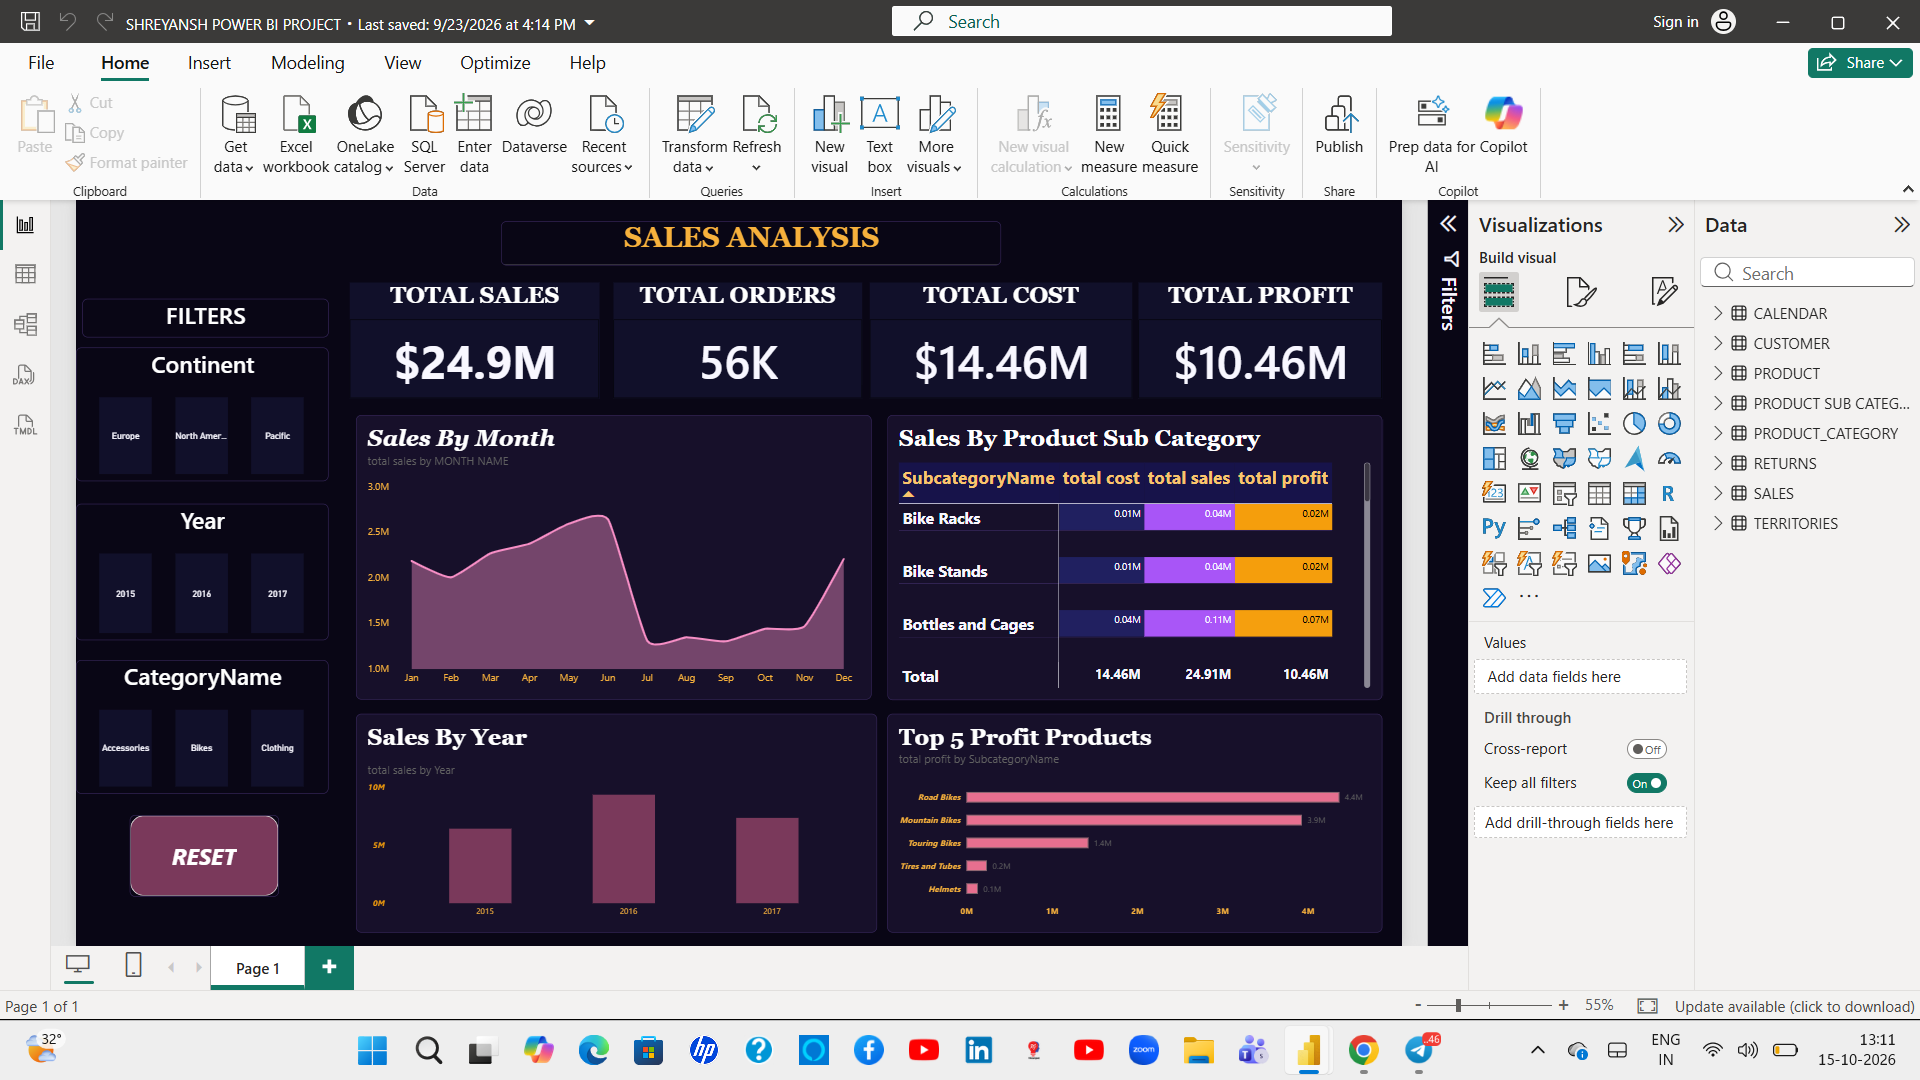

This screenshot's page, from the dashboard's own definition file:
{"tool":"powerbi","page":{"name":"Page 1","canvas":[1920,1080],"ordinal":0},"visuals":[{"type":"cardVisual","title":"TOTAL ORDERS","fields":{"Data":["SALES.total orders"]},"box":[778.2,119.4,360.1,168.3],"z":0},{"type":"cardVisual","title":"TOTAL SALES","fields":{"Data":["SALES.total sales"]},"box":[396.3,119.4,361.9,168.3],"z":1},{"type":"cardVisual","title":"TOTAL PROFIT","fields":{"Data":["SALES.total profit"]},"box":[1538.2,119.4,352.9,168.3],"z":2},{"type":"cardVisual","title":"TOTAL COST","fields":{"Data":["PRODUCT.total cost"]},"box":[1149.1,119.4,380,168.3],"z":3},{"type":"advancedSlicerVisual","fields":{"Values":["CALENDAR.Year"]},"box":[0,439.7,365.6,197.3],"z":4},{"type":"advancedSlicerVisual","fields":{"Values":["TERRITORIES.Continent"]},"box":[0,213.5,365.6,193.6],"z":5},{"type":"lineChart","title":"Total sales","fields":{"Category":["CALENDAR.MONTH NAME"],"Y":["SALES.total sales"]},"box":[405.4,311.3,746,412],"z":6},{"type":"clusteredColumnChart","title":"Total sales By Year","fields":{"Category":["CALENDAR.Year"],"Y":["SALES.total sales"]},"box":[405.4,743.8,754.6,316.7],"z":7},{"type":"advancedSlicerVisual","fields":{"Values":["PRODUCT_CATEGORY.CategoryName"]},"box":[0,666,365.6,193.6],"z":8},{"type":"pivotTable","title":"Sales By Product Sub Category","fields":{"Rows":["PRODUCT SUB CATEGORY.SubcategoryName"],"Values":["PRODUCT.total cost","SALES.total sales","SALES.total profit"]},"box":[1174.5,311.3,716.6,412.6],"z":9},{"type":"clusteredBarChart","title":"TOP 5 PROFIT PRODUCTS","fields":{"Category":["PRODUCT SUB CATEGORY.SubcategoryName"],"Y":["SALES.total profit"]},"box":[1174.5,743.8,716.6,316.7],"z":10},{"type":"shape","title":"FILTERS","box":[9,143,356.5,56.1],"z":11},{"type":"actionButton","box":[77.8,890.4,216,118],"z":12},{"type":"shape","title":"SALES ANALYSIS","box":[653.3,34.4,724,64],"z":13}]}

Visuals, with their boxes on the page's 1920x1080 design canvas (x1, y1, x2, y2). These are canvas units, not pixel positions in the 1920x1080 screenshot, which may show the page scaled, cropped or inside an application window:
"TOTAL ORDERS" cardVisual: (left=778, top=119, right=1138, bottom=288)
"TOTAL SALES" cardVisual: (left=396, top=119, right=758, bottom=288)
"TOTAL PROFIT" cardVisual: (left=1538, top=119, right=1891, bottom=288)
"TOTAL COST" cardVisual: (left=1149, top=119, right=1529, bottom=288)
advancedSlicerVisual - CALENDAR.Year: (left=0, top=440, right=366, bottom=637)
advancedSlicerVisual - TERRITORIES.Continent: (left=0, top=214, right=366, bottom=407)
"Total sales" lineChart: (left=405, top=311, right=1151, bottom=723)
"Total sales By Year" clusteredColumnChart: (left=405, top=744, right=1160, bottom=1060)
advancedSlicerVisual - PRODUCT_CATEGORY.CategoryName: (left=0, top=666, right=366, bottom=860)
"Sales By Product Sub Category" pivotTable: (left=1174, top=311, right=1891, bottom=724)
"TOP 5 PROFIT PRODUCTS" clusteredBarChart: (left=1174, top=744, right=1891, bottom=1060)
"FILTERS" shape: (left=9, top=143, right=366, bottom=199)
actionButton: (left=78, top=890, right=294, bottom=1008)
"SALES ANALYSIS" shape: (left=653, top=34, right=1377, bottom=98)
